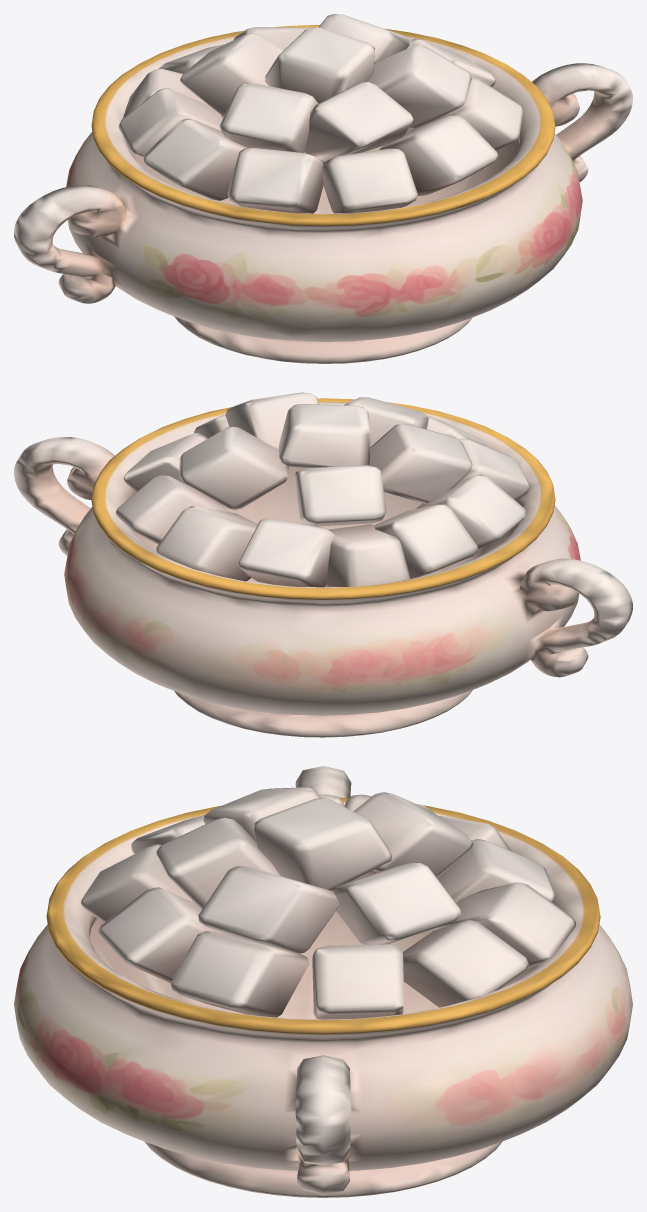
File: sugar_bowl.glb
The picture shows the model from 3 angles, top to bottom: view 1: azimuth 30°, elevation 25°; view 2: azimuth 150°, elevation 25°; view 3: azimuth 270°, elevation 25°; orthographic projection. The views are drawn at different scales.
Visible parts, largest first — view 1: sugar_bowl; view 2: sugar_bowl; view 3: sugar_bowl.
Boxes of the visible parts, x1,y1,x2,y2 form: sugar_bowl: [14, 14, 632, 363]; sugar_bowl: [14, 392, 632, 737]; sugar_bowl: [14, 766, 632, 1197].
Bounding box in the file's own units: 2.96 × 1.2 × 2.2.
Materials: 1 (1 with a texture image).
